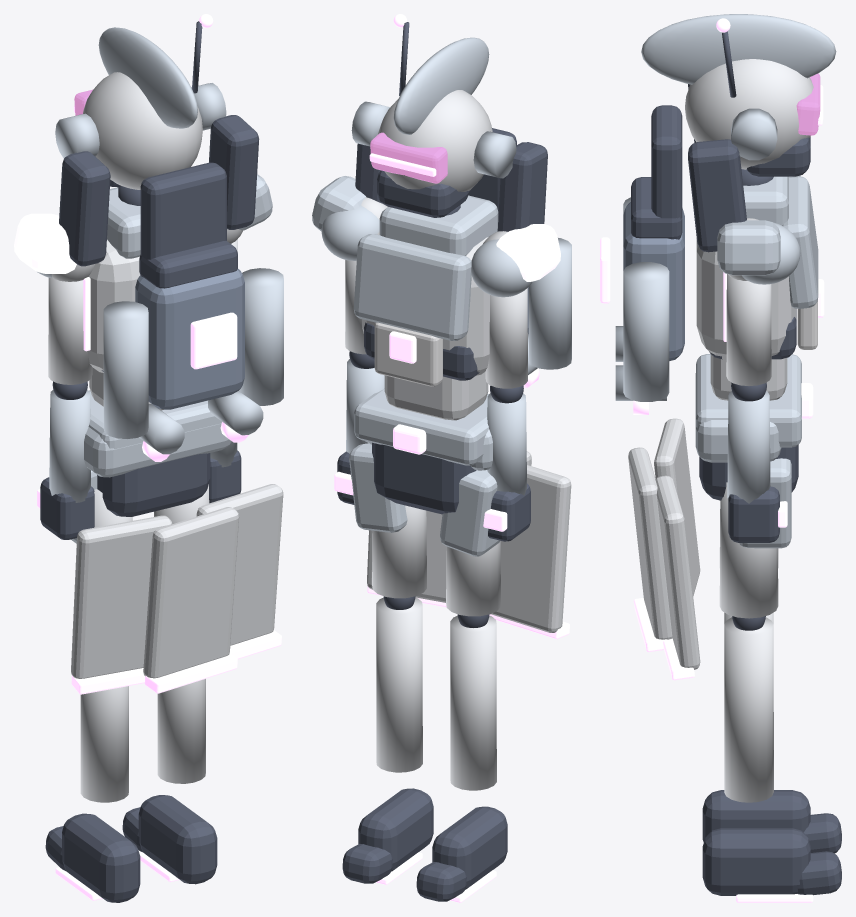
File: skin_nova.glb
The picture shows the model from 3 angles, left to right: view 1: azimuth 30°, elevation 25°; view 2: azimuth 150°, elevation 25°; view 3: azimuth 270°, elevation 25°; orthographic projection. The views are drawn at different scales.
Parts seen in each view (by area): view 1: SkirtBack, SkirtL, Backpack, Helmet, HairBack, SkirtR, TankL, LeftShin, TankR, RightBoot, LeftBoot, HelmetCrest (+27 smaller); view 2: ChestPlate, SkirtL, LeftShin, RightShin, Helmet, Belt, Hips, HelmetCrest, TankL, Collar, RightLeg, LeftBoot (+30 smaller); view 3: HelmetCrest, RightShin, Helmet, RightBoot, TankR, HairR, RightArm, SkirtR, RightLeg, SkirtBack, RightForearm, Torso (+27 smaller).
Part boxes in pixels (box(x1,y1,x2,y2)): SkirtBack: box(143, 507, 239, 678); SkirtL: box(71, 515, 172, 678); Backpack: box(135, 269, 244, 409); Helmet: box(83, 72, 202, 189); HairBack: box(140, 162, 226, 259); SkirtR: box(196, 484, 283, 645); TankL: box(103, 301, 148, 438); LeftShin: box(80, 686, 128, 802); TankR: box(239, 268, 283, 405); RightBoot: box(138, 795, 217, 884); LeftBoot: box(62, 813, 140, 902); HelmetCrest: box(98, 27, 197, 128); ChestPlate: box(353, 234, 471, 340); SkirtL: box(491, 465, 571, 632); LeftShin: box(450, 615, 496, 790); RightShin: box(376, 597, 422, 772); Helmet: box(378, 90, 492, 191); Belt: box(354, 388, 488, 465); Hips: box(372, 442, 476, 514); HelmetCrest: box(393, 37, 489, 134); TankL: box(528, 238, 571, 369); Collar: box(379, 195, 498, 255); RightLeg: box(372, 505, 426, 598); LeftBoot: box(432, 806, 507, 889); HelmetCrest: box(641, 14, 836, 84); RightShin: box(724, 617, 773, 802); Helmet: box(685, 59, 813, 169); RightBoot: box(702, 828, 810, 895); TankR: box(623, 262, 669, 401); HairR: box(688, 139, 746, 252); RightArm: box(726, 274, 771, 385); SkirtR: box(655, 475, 700, 669); RightLeg: box(719, 482, 778, 618); SkirtBack: box(628, 447, 672, 639); RightForearm: box(727, 391, 770, 503); Torso: box(696, 239, 796, 359).
Size of the model in its own units: 0.5462 by 1.89 by 0.4708.
